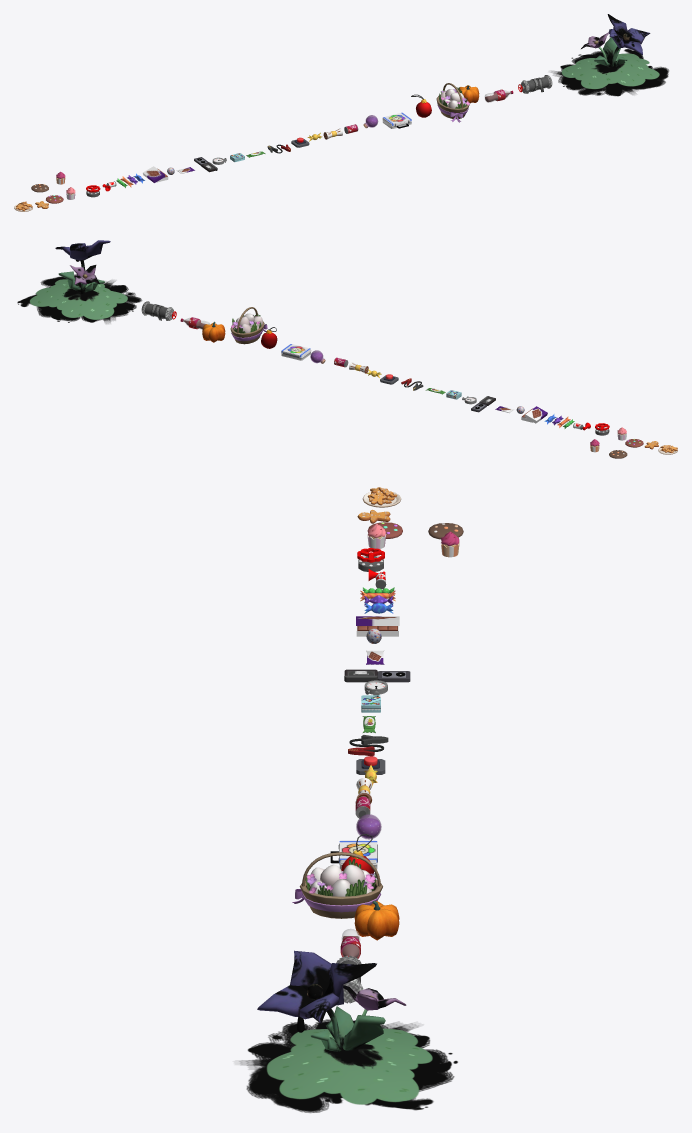
The model's file is dandys_world_all_itemsother.glb.
3 renders of one model, top to bottom at view 1: azimuth 30°, elevation 25°; view 2: azimuth 150°, elevation 25°; view 3: azimuth 270°, elevation 25°, orthographic. The views are drawn at different scales.
Visible parts, largest first — view 1: Object_36, Object_8, Object_20; view 2: Object_36, Object_8, Object_31, Object_20; view 3: Object_36, Object_8, Object_31, Object_37.
Boxes of the visible parts, box(x1,y1,x2,y2) form: Object_36: box(551, 14, 668, 96); Object_8: box(436, 83, 469, 122); Object_20: box(382, 112, 411, 128); Object_36: box(17, 240, 141, 323); Object_8: box(230, 307, 267, 344); Object_31: box(202, 321, 225, 342); Object_20: box(281, 344, 311, 360); Object_36: box(239, 950, 457, 1112); Object_8: box(292, 852, 382, 918); Object_31: box(354, 901, 399, 940); Object_37: box(357, 487, 401, 523).
Bounding box in the file's own units: 63.48 × 5.11 × 10.15.
Materials: 39 (34 with a texture image).
